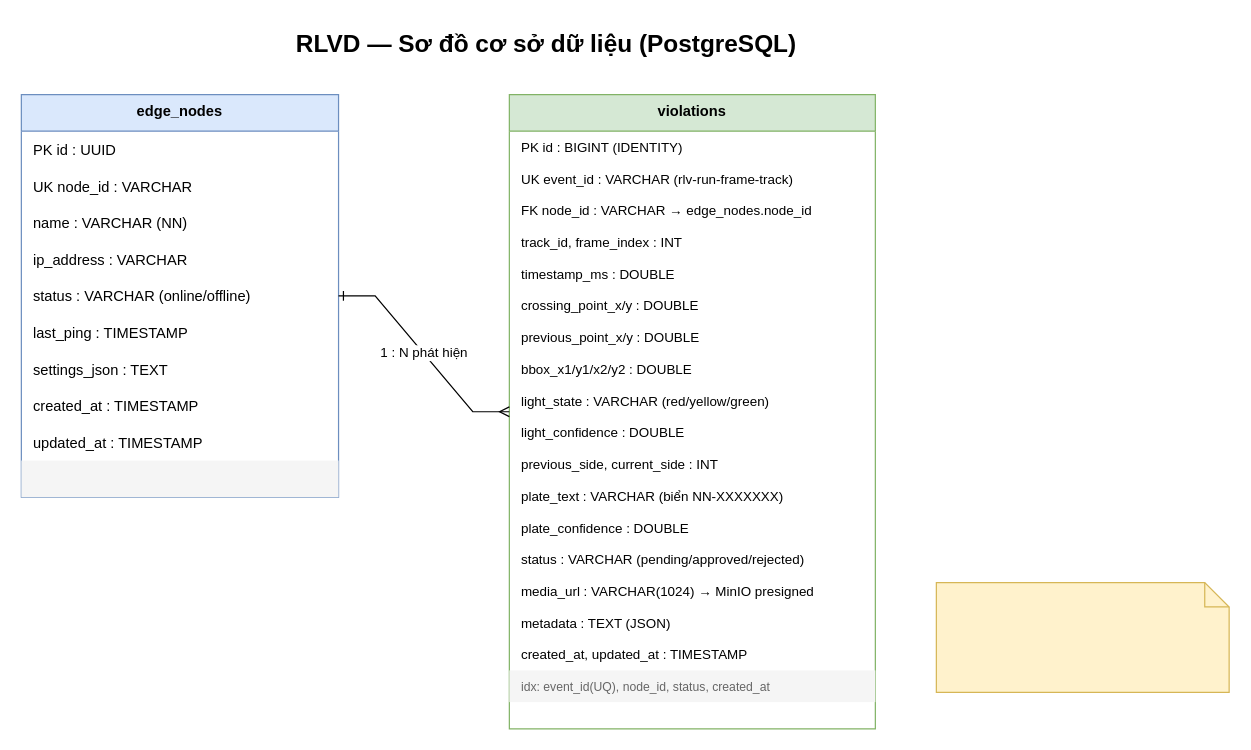
Image size: 1251x750. Some labels were removed from this diagram. The shapes that lost their labels are listed below. From the top down, each one's centre as x and y in pixels, then its label:
At pixel 179 478: "idx: node_id(UQ), status, last_ping".
At pixel 1082 636: "MinIO bucket 'violations' lưu ảnh evidence JPEG (media_url = presigned GET, 1h)".
